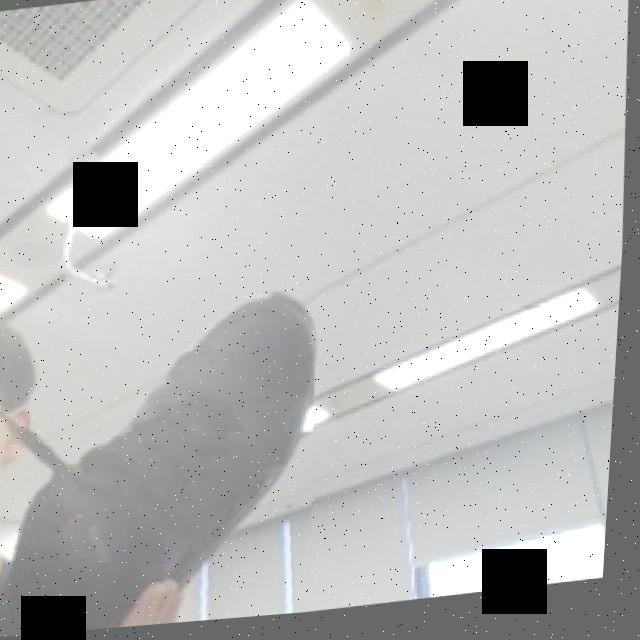shoe: (0, 292, 331, 640)
